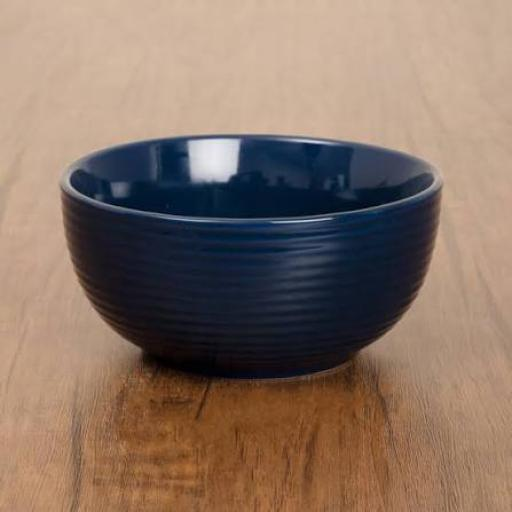Bowl: (61, 134, 441, 377)
